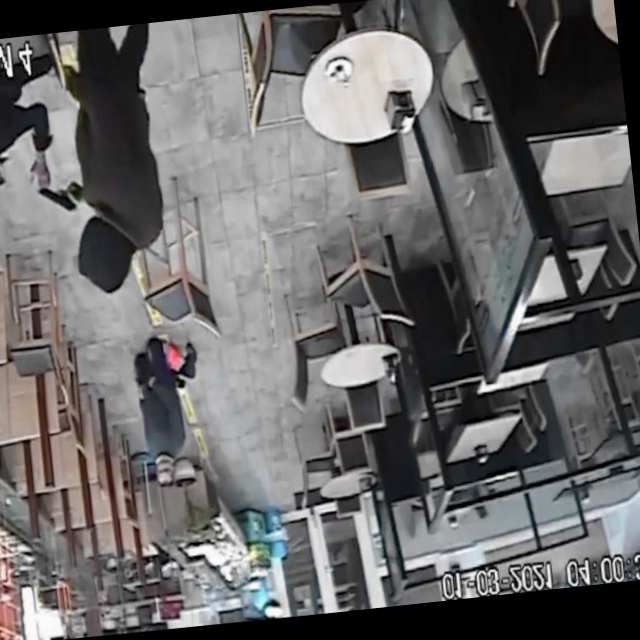gun: (21, 163, 93, 230)
